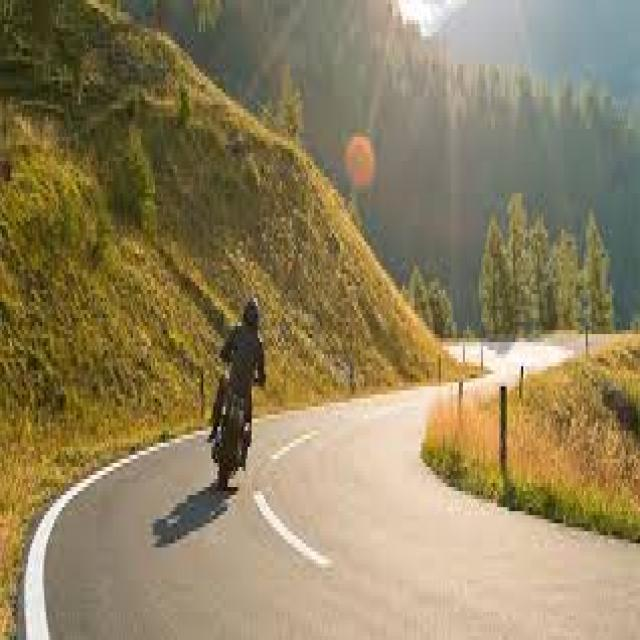MOTORCYCLE: (217, 352, 255, 500)
